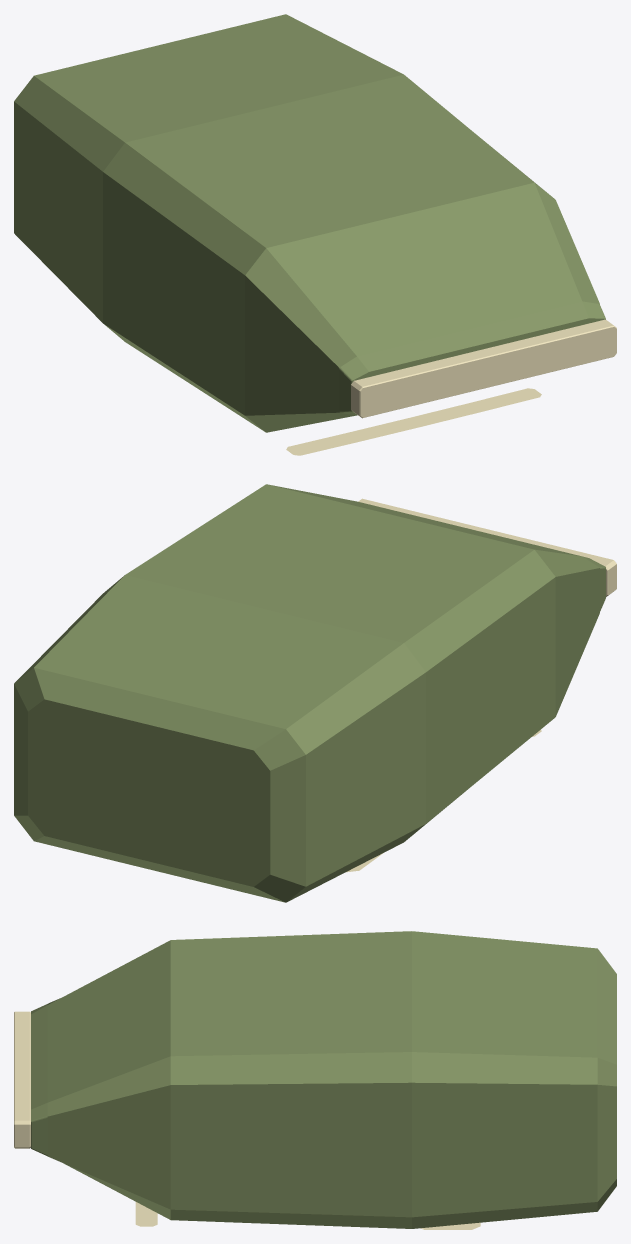
The model's file is dog_food.glb.
The picture shows the model from 3 angles, top to bottom: view 1: azimuth 30°, elevation 25°; view 2: azimuth 150°, elevation 25°; view 3: azimuth 270°, elevation 25°; orthographic projection. The views are drawn at different scales.
Visible parts, largest first — view 1: dog_food; view 2: dog_food; view 3: dog_food.
Boxes of the visible parts, box(x1,y1,x2,y2) form: dog_food: box(14, 14, 616, 455); dog_food: box(14, 484, 616, 902); dog_food: box(14, 931, 616, 1229).
Size of the model in its own units: 0.1373 by 0.0892 by 0.25.
